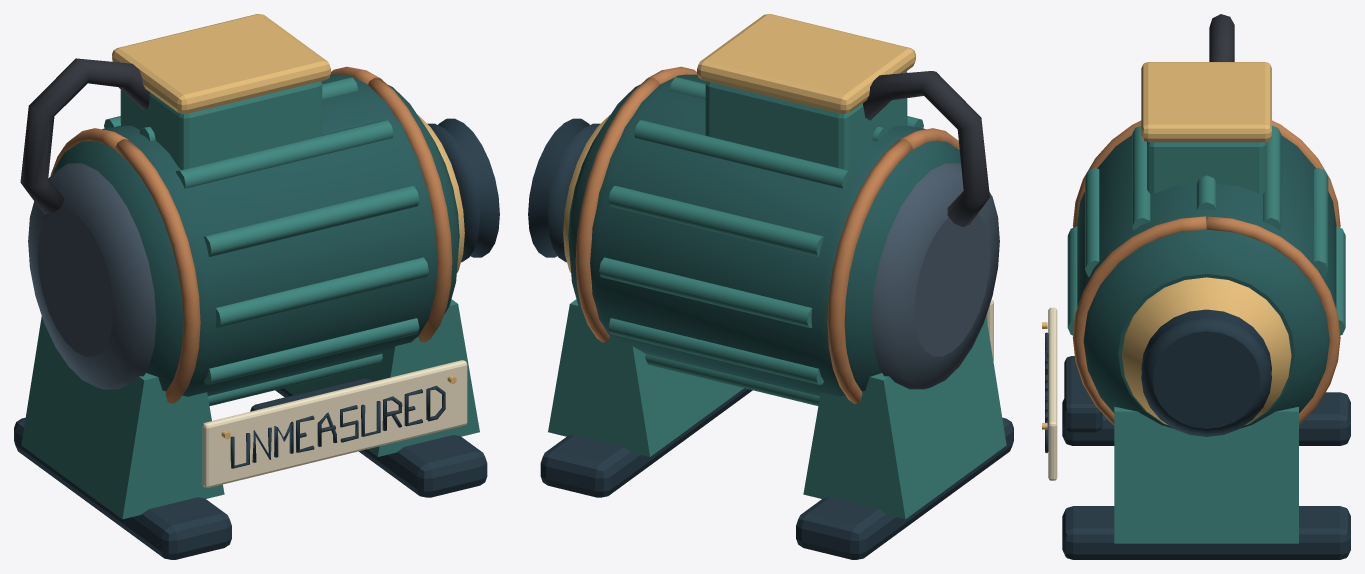
3 views of the same model, side by side, from view 1: azimuth 30°, elevation 25°; view 2: azimuth 150°, elevation 25°; view 3: azimuth 270°, elevation 25° (orthographic). The views are drawn at different scales.
Parts seen in each view (by area): view 1: PR026 workshop surfaces; view 2: PR026 workshop surfaces; view 3: PR026 workshop surfaces.
Boxes of the visible parts, x1,y1,x2,y2 form: PR026 workshop surfaces: (14,14,499,559); PR026 workshop surfaces: (528,14,1013,559); PR026 workshop surfaces: (1042,14,1350,559).
Size of the model in its own units: 1.3 by 1.26 by 0.8684.
